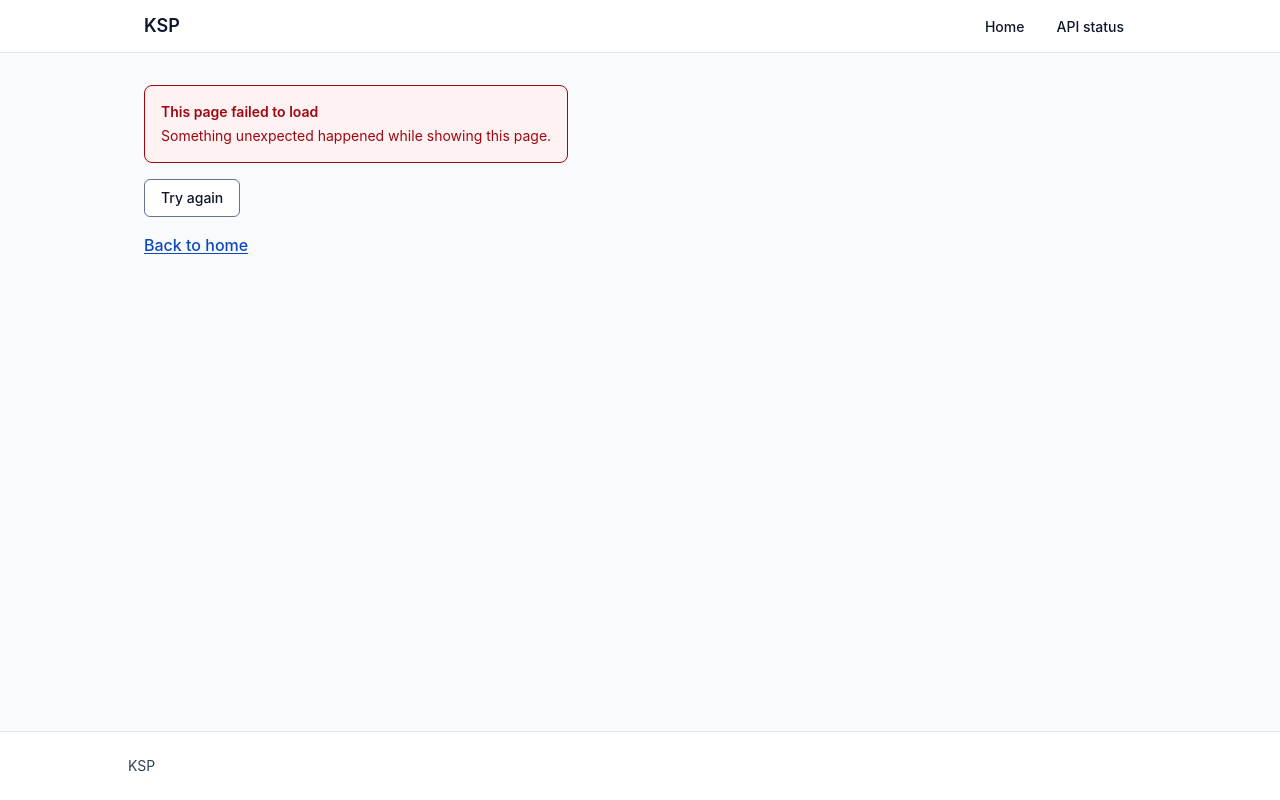
Test: route error boundary › lets the visitor leave a failed page for a working one
The width and height of the screenshot is (1280, 800).
Click the link "Back to home" at (196, 245), box [144, 235, 248, 255]
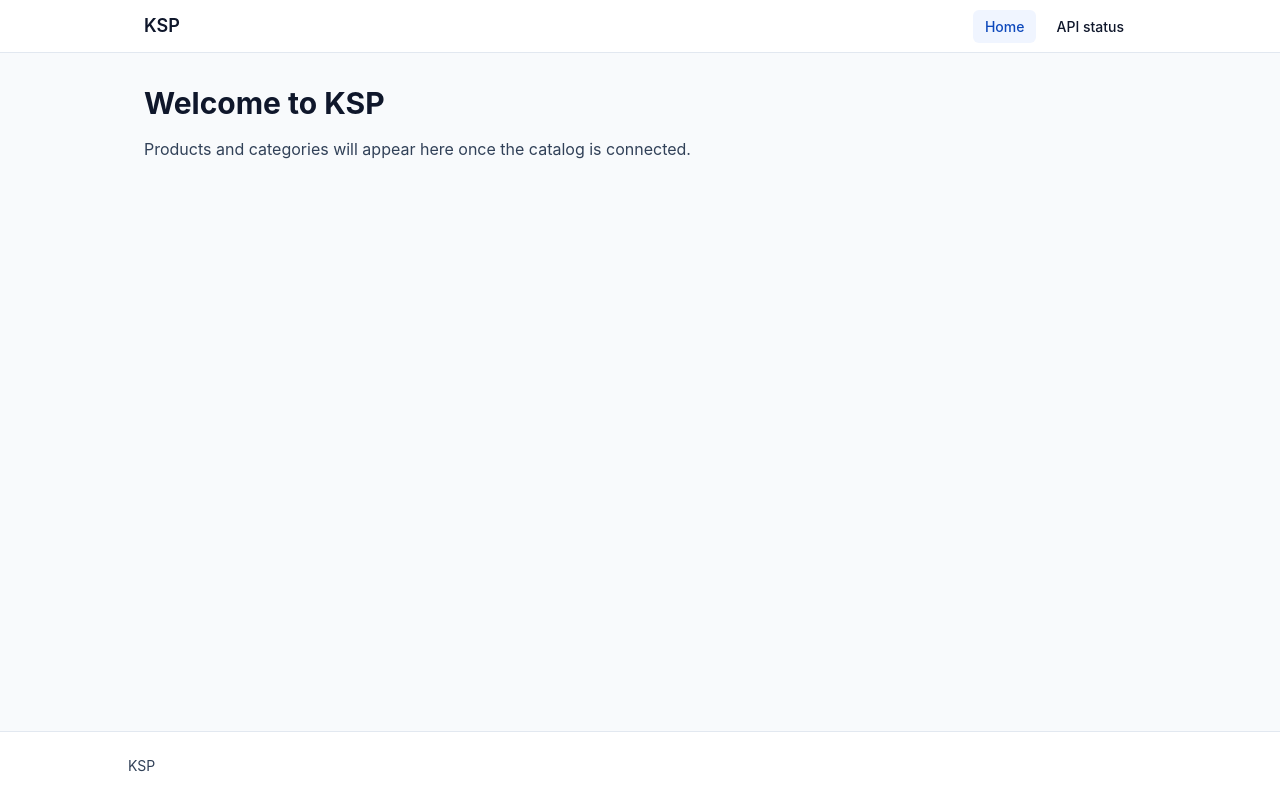
Now the heading "Welcome to KSP" is shown, box [144, 85, 385, 121]
